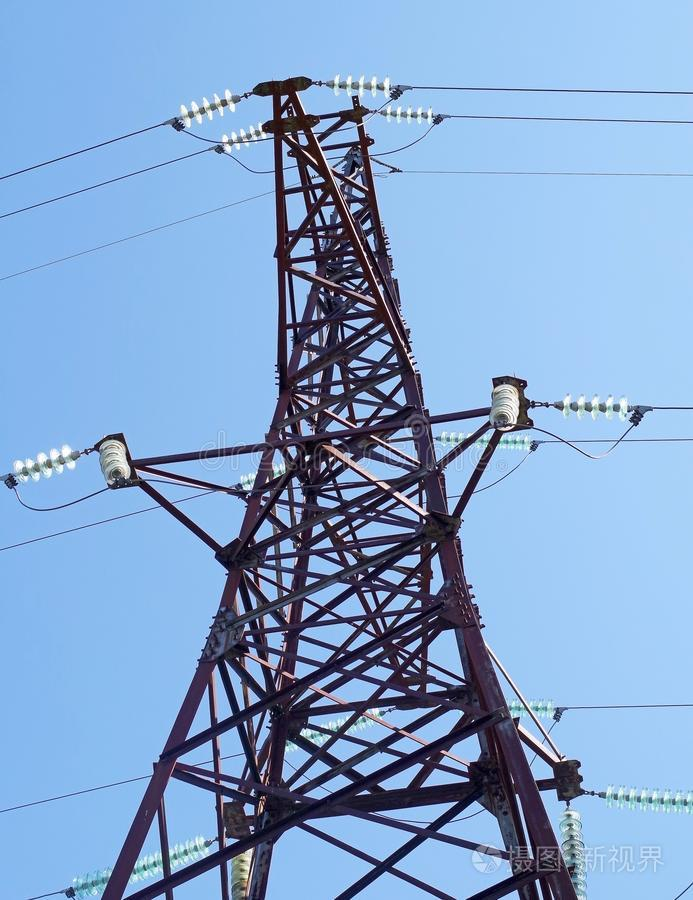insulator: (67, 836, 209, 897), (556, 810, 596, 900), (12, 446, 79, 490), (602, 782, 693, 813), (304, 710, 384, 741), (560, 392, 629, 426), (177, 89, 238, 126), (327, 72, 398, 100), (436, 429, 537, 448), (97, 437, 127, 487), (218, 118, 268, 148), (489, 383, 518, 429), (228, 852, 255, 900), (385, 102, 436, 127), (506, 694, 556, 714)
